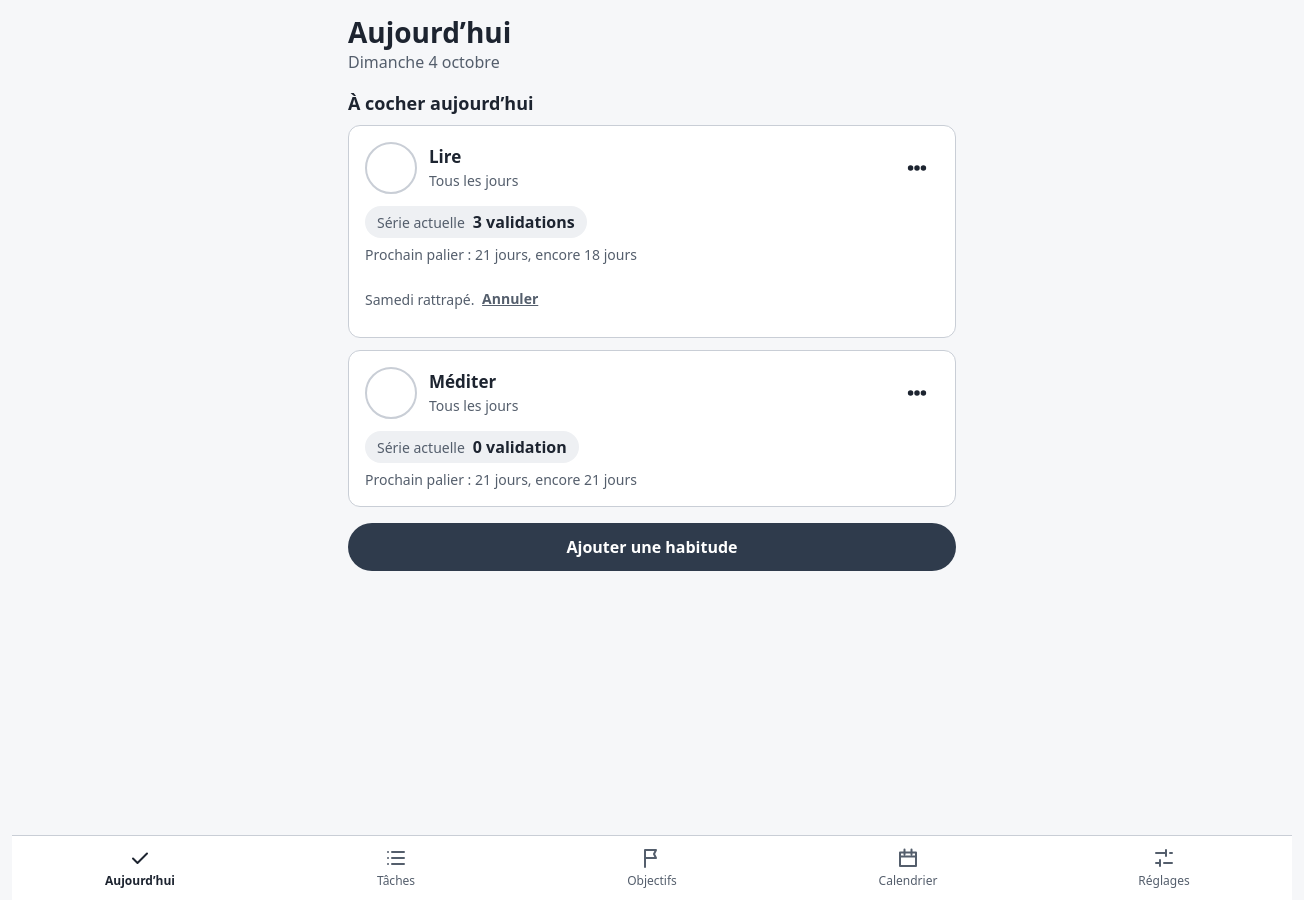
Test: calendrier : vue globale › ne va ni avant la première donnée ni après le mois en cours
This screenshot has width=1304, height=900.
Expected: the heading "Aujourd’hui" is shown, left=348, top=13, right=511, bottom=51
Click the button "Calendrier": point(908, 868) left=780, top=836, right=1036, bottom=899
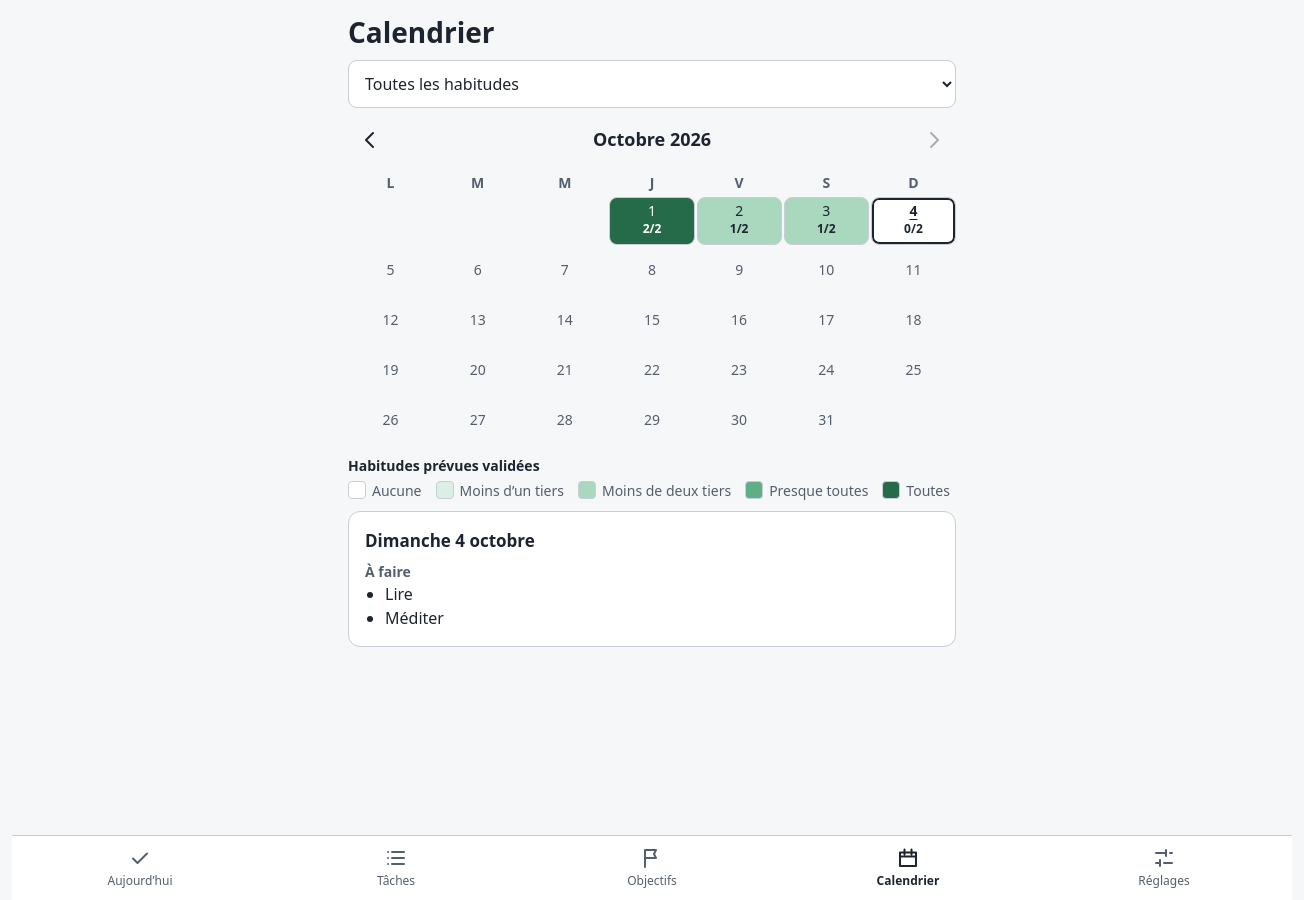
Expected: the button named "Mois suivant" is disabled, left=912, top=118, right=956, bottom=162
Click the button named "Mois précédent, septembre 2026": point(370, 140) left=348, top=118, right=392, bottom=162
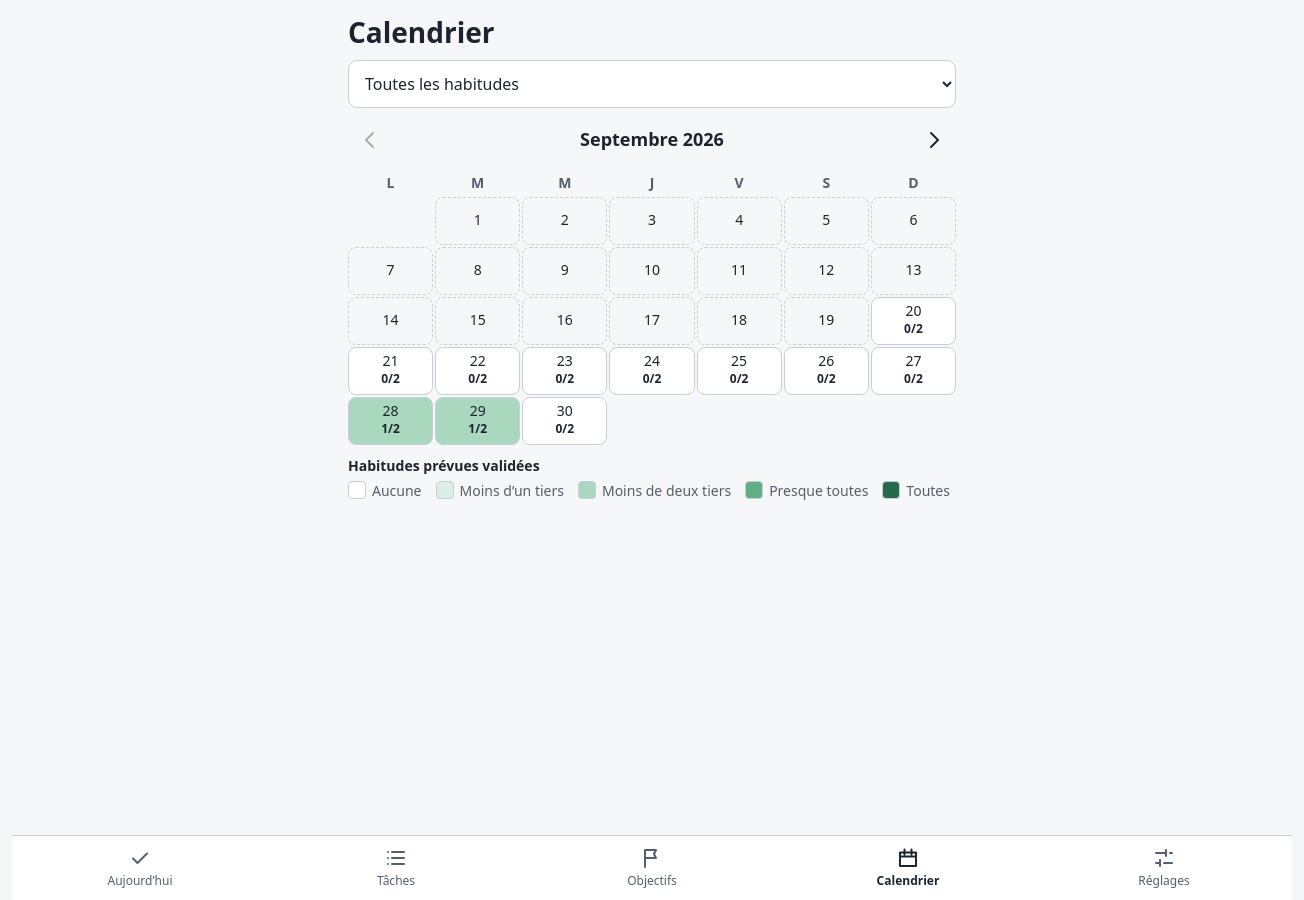
Expected: the button named "Mois précédent" is disabled, left=348, top=118, right=392, bottom=162
